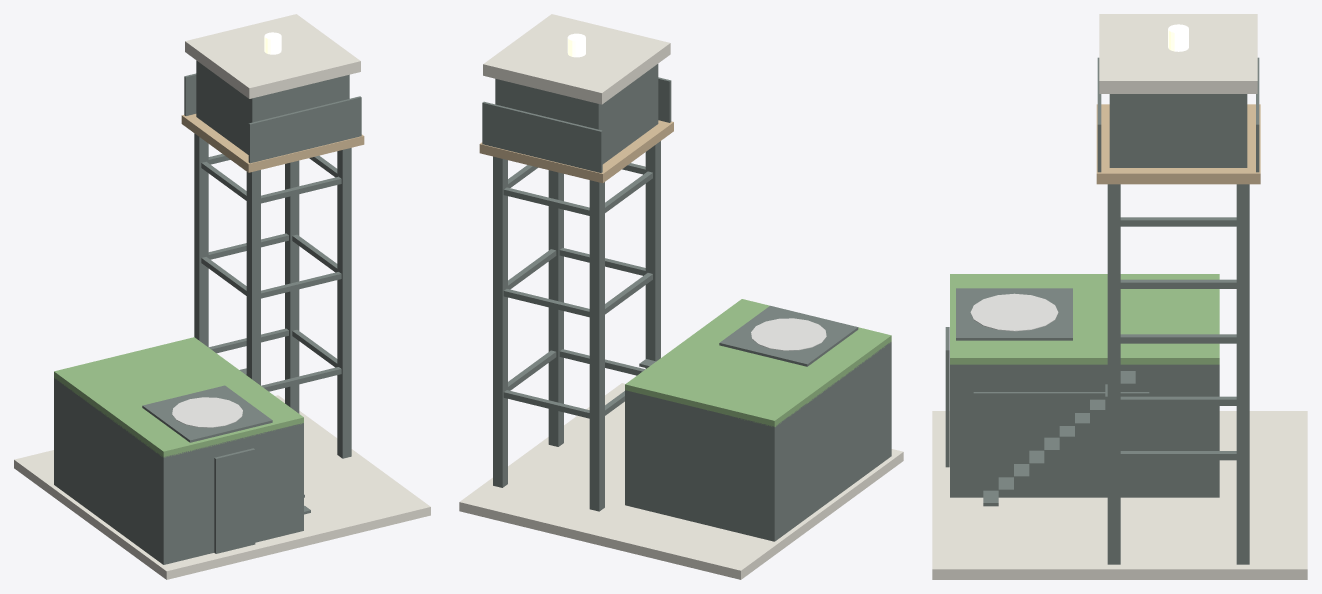
Rendered from RangerStation.fbx.
3 renders of one model, left to right at view 1: azimuth 30°, elevation 25°; view 2: azimuth 150°, elevation 25°; view 3: azimuth 270°, elevation 25°, orthographic. The views are drawn at different scales.
Parts seen in each view (by area): view 1: Container_Ground, Ranger_Foundation, Ranger_Terrace, Lookout_Roof_Overhang, Lookout_Cabin_Frame, Deck_Rail_X1, Tower_Column_2.9_-0.1, RangerStation_Door, Tower_Column_2.9_2.1, Tower_Column_0.7_-0.1, Tower_Column_0.7_2.1, Ranger_DronePad_Plate (+8 smaller); view 2: Container_Ground, Ranger_Foundation, Ranger_Terrace, Lookout_Roof_Overhang, Lookout_Cabin_Frame, Deck_Rail_X2, Tower_Column_0.7_2.1, Tower_Column_2.9_2.1, Tower_Column_2.9_-0.1, Tower_Column_0.7_-0.1, Ranger_DronePad_Plate, Lookout_Deck (+7 smaller); view 3: Ranger_Foundation, Container_Ground, Ranger_Terrace, Lookout_Roof_Overhang, Lookout_Cabin_Frame, Stair_Handrail, Tower_Column_2.9_-0.1, Tower_Column_2.9_2.1, Lookout_Deck, Ranger_DronePad_Plate, Ranger_DroneRing, Truss_H_Y2_4.4 (+7 smaller).
Part boxes in pixels (x1,y1,x2,y2): Container_Ground: [54, 377, 303, 564]; Ranger_Foundation: [14, 395, 430, 579]; Ranger_Terrace: [54, 337, 303, 457]; Lookout_Roof_Overhang: [185, 14, 360, 98]; Lookout_Cabin_Frame: [196, 60, 349, 154]; Deck_Rail_X1: [248, 96, 361, 163]; Tower_Column_2.9_-0.1: [337, 148, 351, 458]; RangerStation_Door: [214, 448, 255, 553]; Tower_Column_2.9_2.1: [285, 160, 299, 413]; Tower_Column_0.7_-0.1: [246, 170, 260, 385]; Tower_Column_0.7_2.1: [194, 133, 208, 347]; Ranger_DronePad_Plate: [142, 385, 272, 442]; Container_Ground: [625, 342, 891, 541]; Ranger_Foundation: [459, 383, 903, 579]; Ranger_Terrace: [625, 299, 891, 426]; Lookout_Roof_Overhang: [483, 14, 670, 104]; Lookout_Cabin_Frame: [495, 64, 658, 164]; Deck_Rail_X2: [482, 101, 602, 172]; Tower_Column_0.7_2.1: [589, 180, 604, 511]; Tower_Column_2.9_2.1: [493, 156, 507, 487]; Tower_Column_2.9_-0.1: [548, 170, 563, 446]; Tower_Column_0.7_-0.1: [645, 141, 660, 368]; Ranger_DronePad_Plate: [719, 305, 858, 366]; Lookout_Deck: [479, 120, 673, 183]; Ranger_Foundation: [932, 411, 1307, 579]; Container_Ground: [950, 364, 1219, 497]; Ranger_Terrace: [950, 274, 1219, 364]; Lookout_Roof_Overhang: [1099, 14, 1257, 93]; Lookout_Cabin_Frame: [1109, 94, 1247, 167]; Stair_Handrail: [973, 392, 1149, 435]; Tower_Column_2.9_-0.1: [1107, 184, 1120, 564]; Tower_Column_2.9_2.1: [1236, 184, 1249, 564]; Lookout_Deck: [1096, 104, 1260, 184]; Ranger_DronePad_Plate: [956, 288, 1072, 340]; Ranger_DroneRing: [970, 293, 1058, 331]; Truss_H_Y2_4.4: [1120, 334, 1236, 343].
Bounding box in the file's own units: 640 × 978 × 640.
